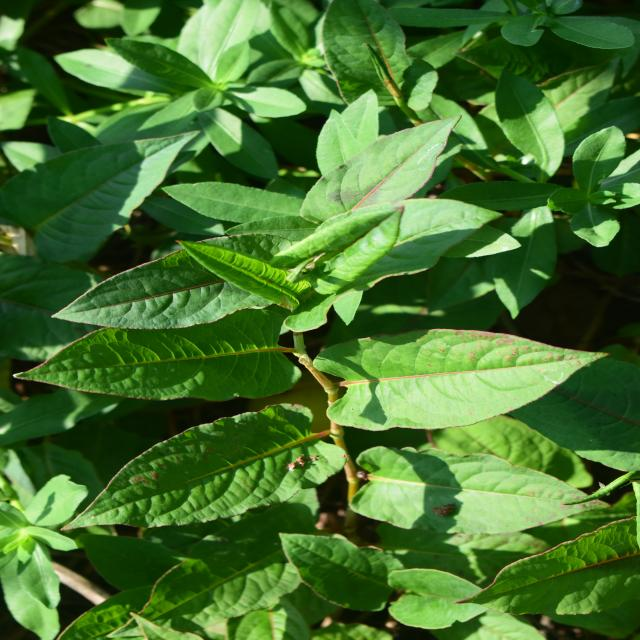Chinese_knotweed: (120, 64, 433, 560)
